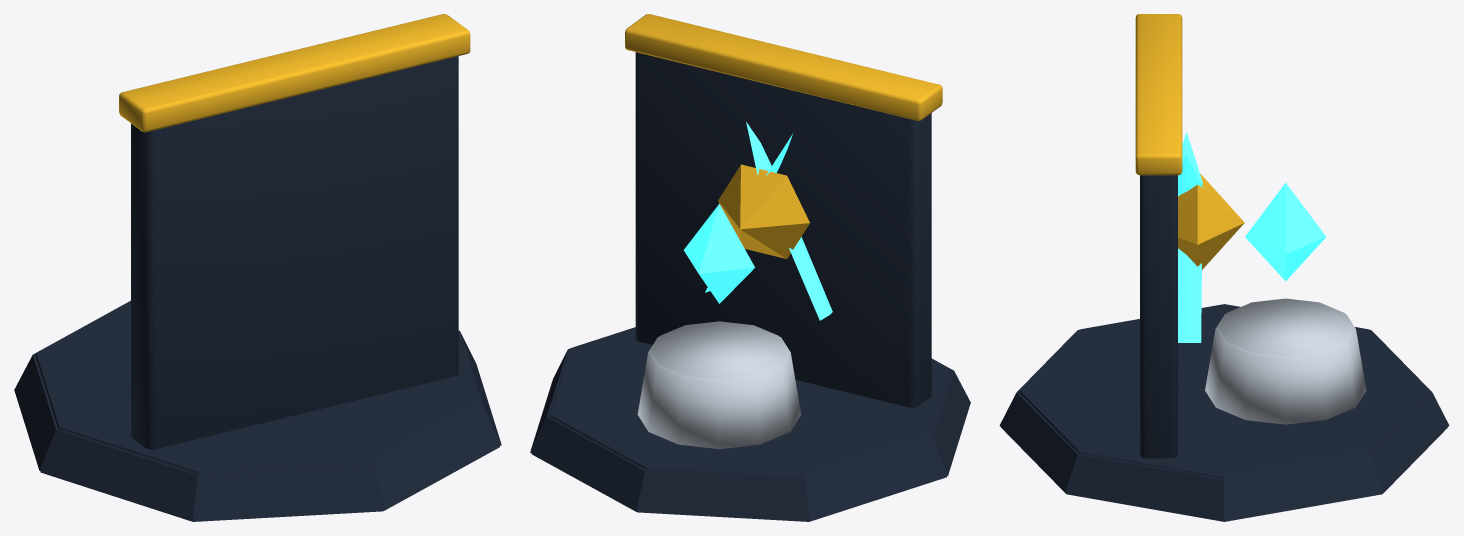
The model's file is prop_armory_kiosk.glb.
3 renders of one model, left to right at view 1: azimuth 30°, elevation 25°; view 2: azimuth 150°, elevation 25°; view 3: azimuth 270°, elevation 25°, orthographic. The views are drawn at different scales.
Parts seen in each view (by area): view 1: WeaponRackBack, ArmoryPlinth, WeaponRackRim; view 2: WeaponRackBack, ArmoryPlinth, HoloProjector, WeaponRackRim, ShieldEmblem, HoloCrystal, RackBlade_-1; view 3: ArmoryPlinth, HoloProjector, WeaponRackBack, WeaponRackRim, HoloCrystal, ShieldEmblem, RackBlade_1, RackBlade_-1.
Part boxes in pixels (left/top/right/bottom): WeaponRackBack: left=131, top=56, right=458, bottom=449; ArmoryPlinth: left=14, top=300, right=501, bottom=521; WeaponRackRim: left=119, top=14, right=470, bottom=132; WeaponRackBack: left=635, top=52, right=931, bottom=407; ArmoryPlinth: left=530, top=327, right=970, bottom=521; HoloProjector: left=637, top=321, right=801, bottom=449; WeaponRackRim: left=625, top=14, right=942, bottom=120; ShieldEmblem: left=718, top=164, right=809, bottom=258; HoloCrystal: left=683, top=204, right=754, bottom=303; RackBlade_-1: left=746, top=121, right=832, bottom=320; ArmoryPlinth: left=999, top=304, right=1449, bottom=521; HoloProjector: left=1205, top=298, right=1366, bottom=424; WeaponRackBack: left=1140, top=175, right=1177, bottom=458; WeaponRackRim: left=1135, top=14, right=1182, bottom=175; HoloCrystal: left=1245, top=182, right=1326, bottom=281; ShieldEmblem: left=1178, top=173, right=1244, bottom=269; RackBlade_1: left=1178, top=132, right=1202, bottom=342; RackBlade_-1: left=1178, top=155, right=1202, bottom=194.
Bounding box in the file's own units: 3.09 × 2.6 × 3.09.
